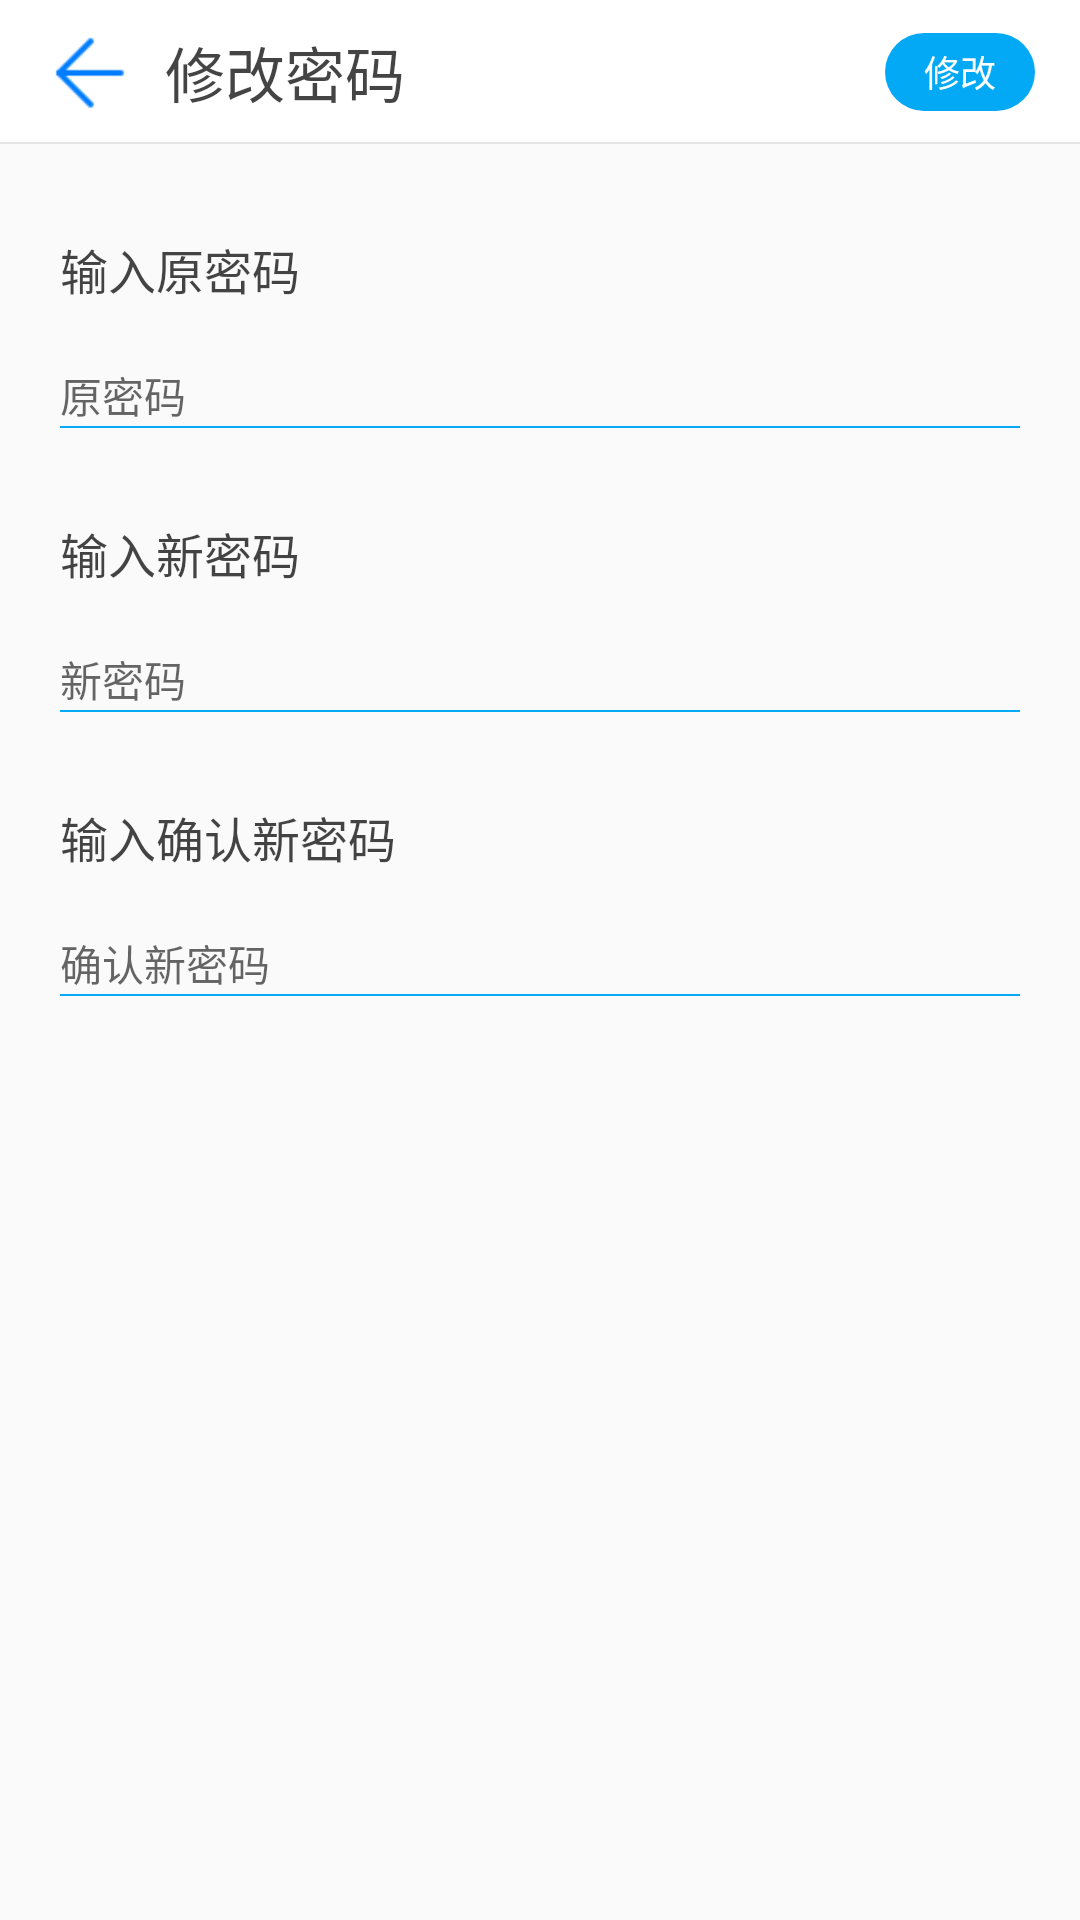

Screen size 1080 × 1920. Icon name, then its box in pixels as (left=x1, top=y1, right=x2, bottom=y2):
back: (left=56, top=38, right=124, bottom=108)
